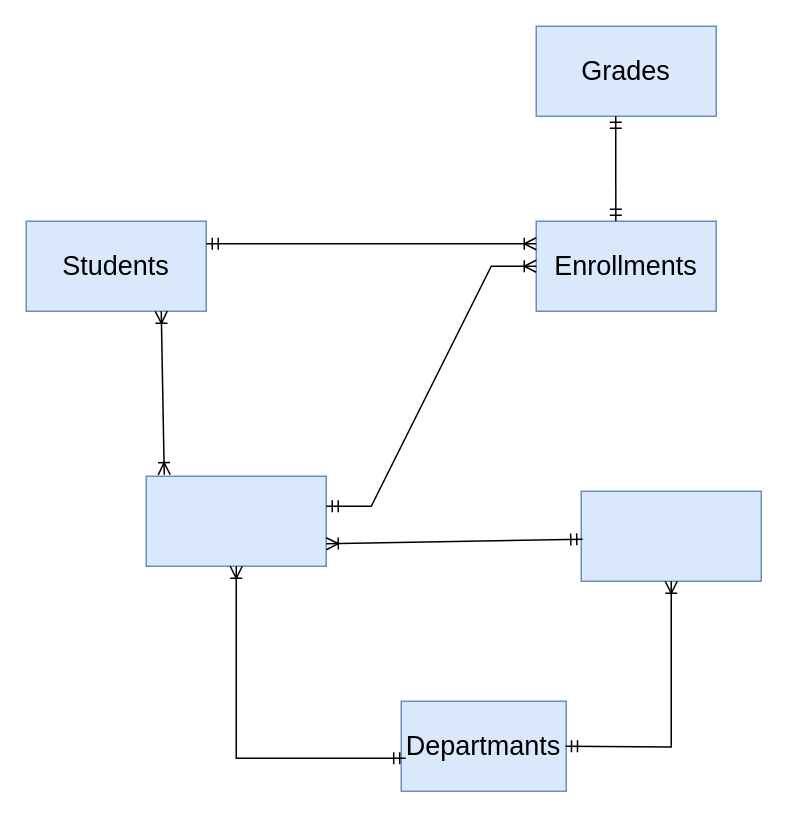
Some shapes in this 788 by 818 pixel diagram are drawn without their labels. The box of each missing label's shape, as (x1, y1, x2, y2) in pixels:
Courses: (145, 475, 326, 566)
Professors: (580, 490, 761, 581)
